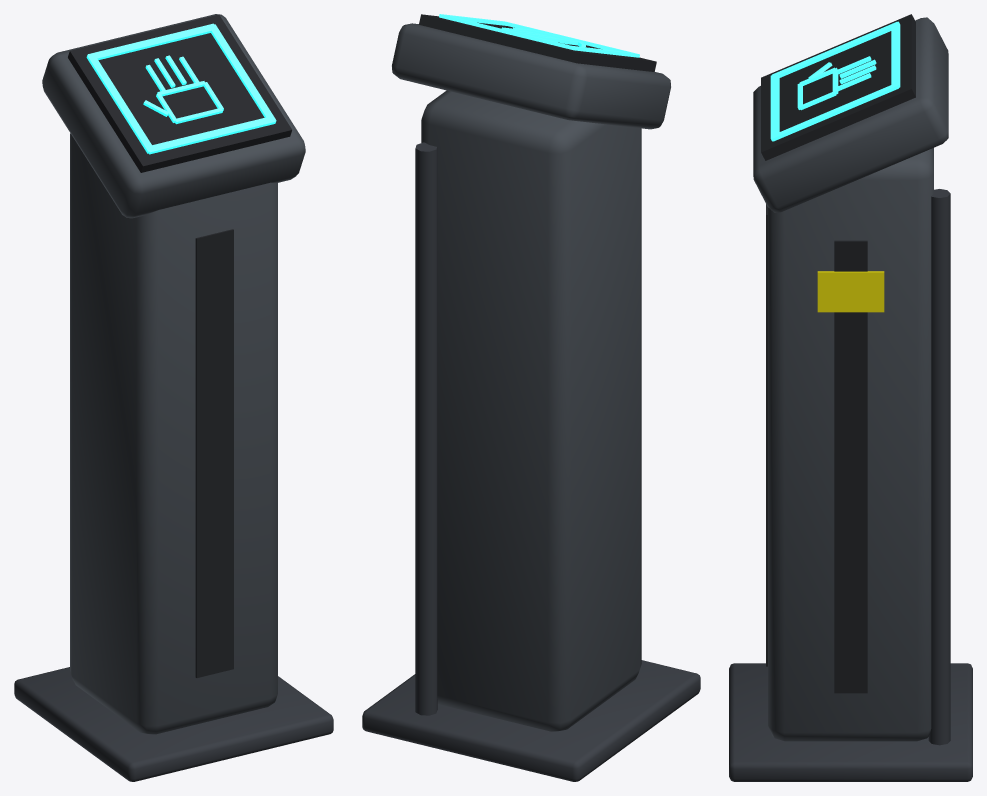
File: scanner.glb
3 views of the same model, side by side, from view 1: azimuth 30°, elevation 25°; view 2: azimuth 150°, elevation 25°; view 3: azimuth 270°, elevation 25° (orthographic). The views are drawn at different scales.
Visible parts, largest first — view 1: Body, Ring; view 2: Body, Ring; view 3: Body, Ring.
Part boxes in pixels (left/top/right/bottom): Body: left=14, top=14, right=333, bottom=781; Ring: left=86, top=23, right=276, bottom=154; Body: left=362, top=14, right=700, bottom=781; Ring: left=439, top=14, right=639, bottom=57; Body: left=729, top=14, right=972, bottom=781; Ring: left=770, top=21, right=900, bottom=141.
Size of the model in its own units: 0.44 by 1.36 by 0.44.
